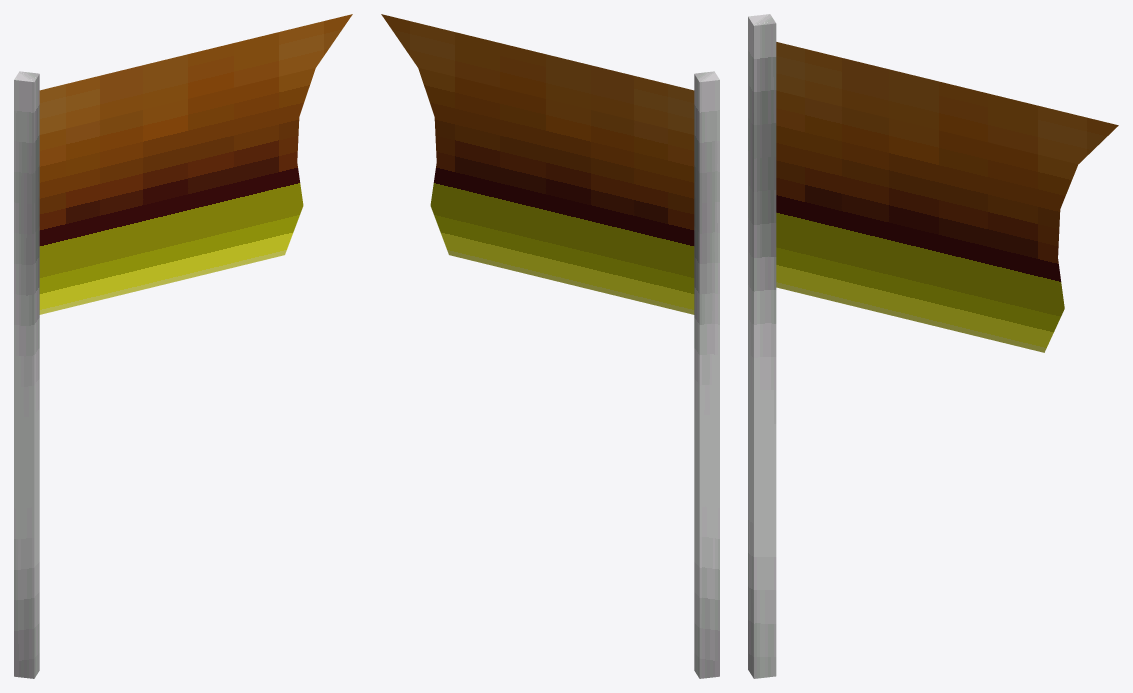
The model's file is Flag (LM).obj.
3 views of the same model, side by side, from view 1: azimuth 30°, elevation 25°; view 2: azimuth 150°, elevation 25°; view 3: azimuth 330°, elevation 25° (orthographic). The views are drawn at different scales.
Visible parts, largest first — view 1: shape0_material1; view 2: shape0_material1; view 3: shape0_material1.
Boxes of the visible parts, x1=… form: shape0_material1: x1=14, y1=14, x2=352, y2=678; shape0_material1: x1=381, y1=14, x2=719, y2=678; shape0_material1: x1=748, y1=14, x2=1118, y2=678.
Bounding box in the file's own units: 1.13 × 1.9 × 0.086.
